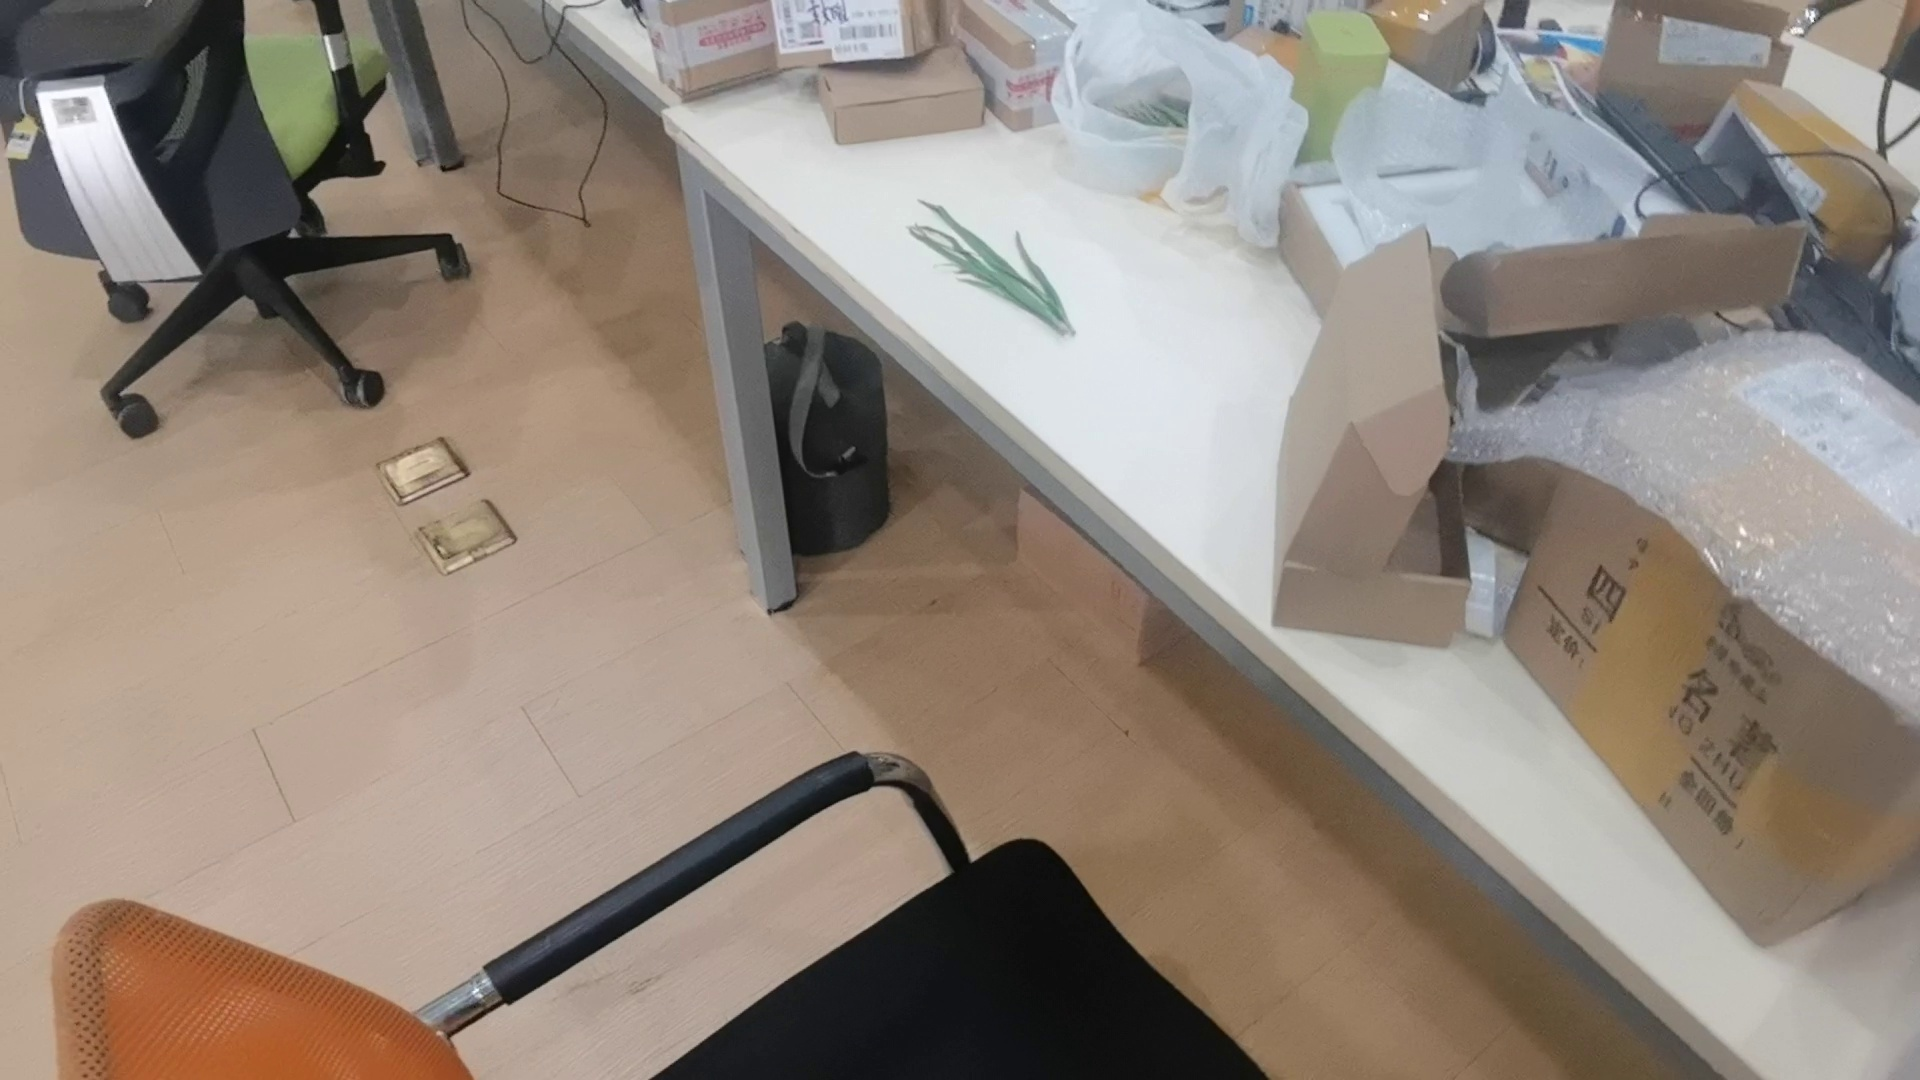chives: (913, 191, 1079, 340)
